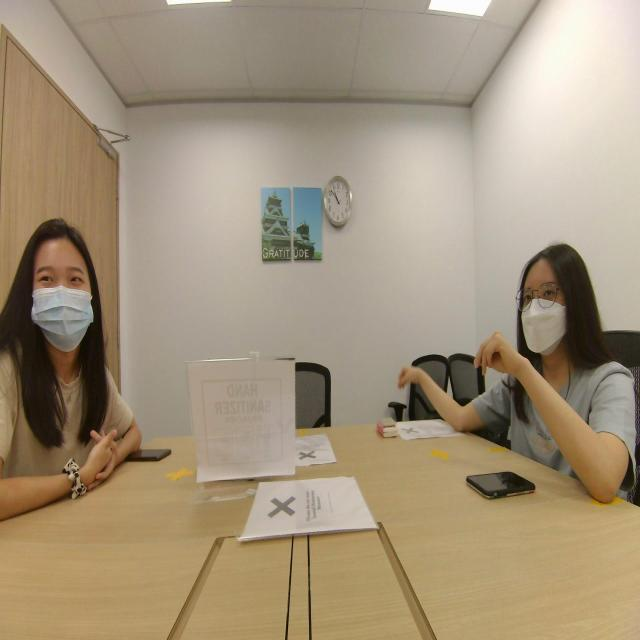obstacle: (472, 231, 623, 449), (10, 186, 119, 454)
